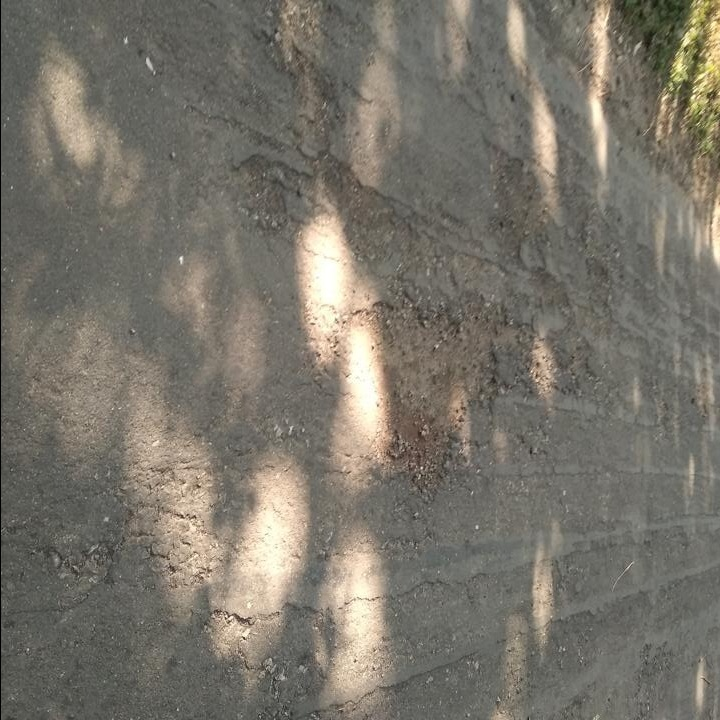pothole: (322, 295, 516, 506)
